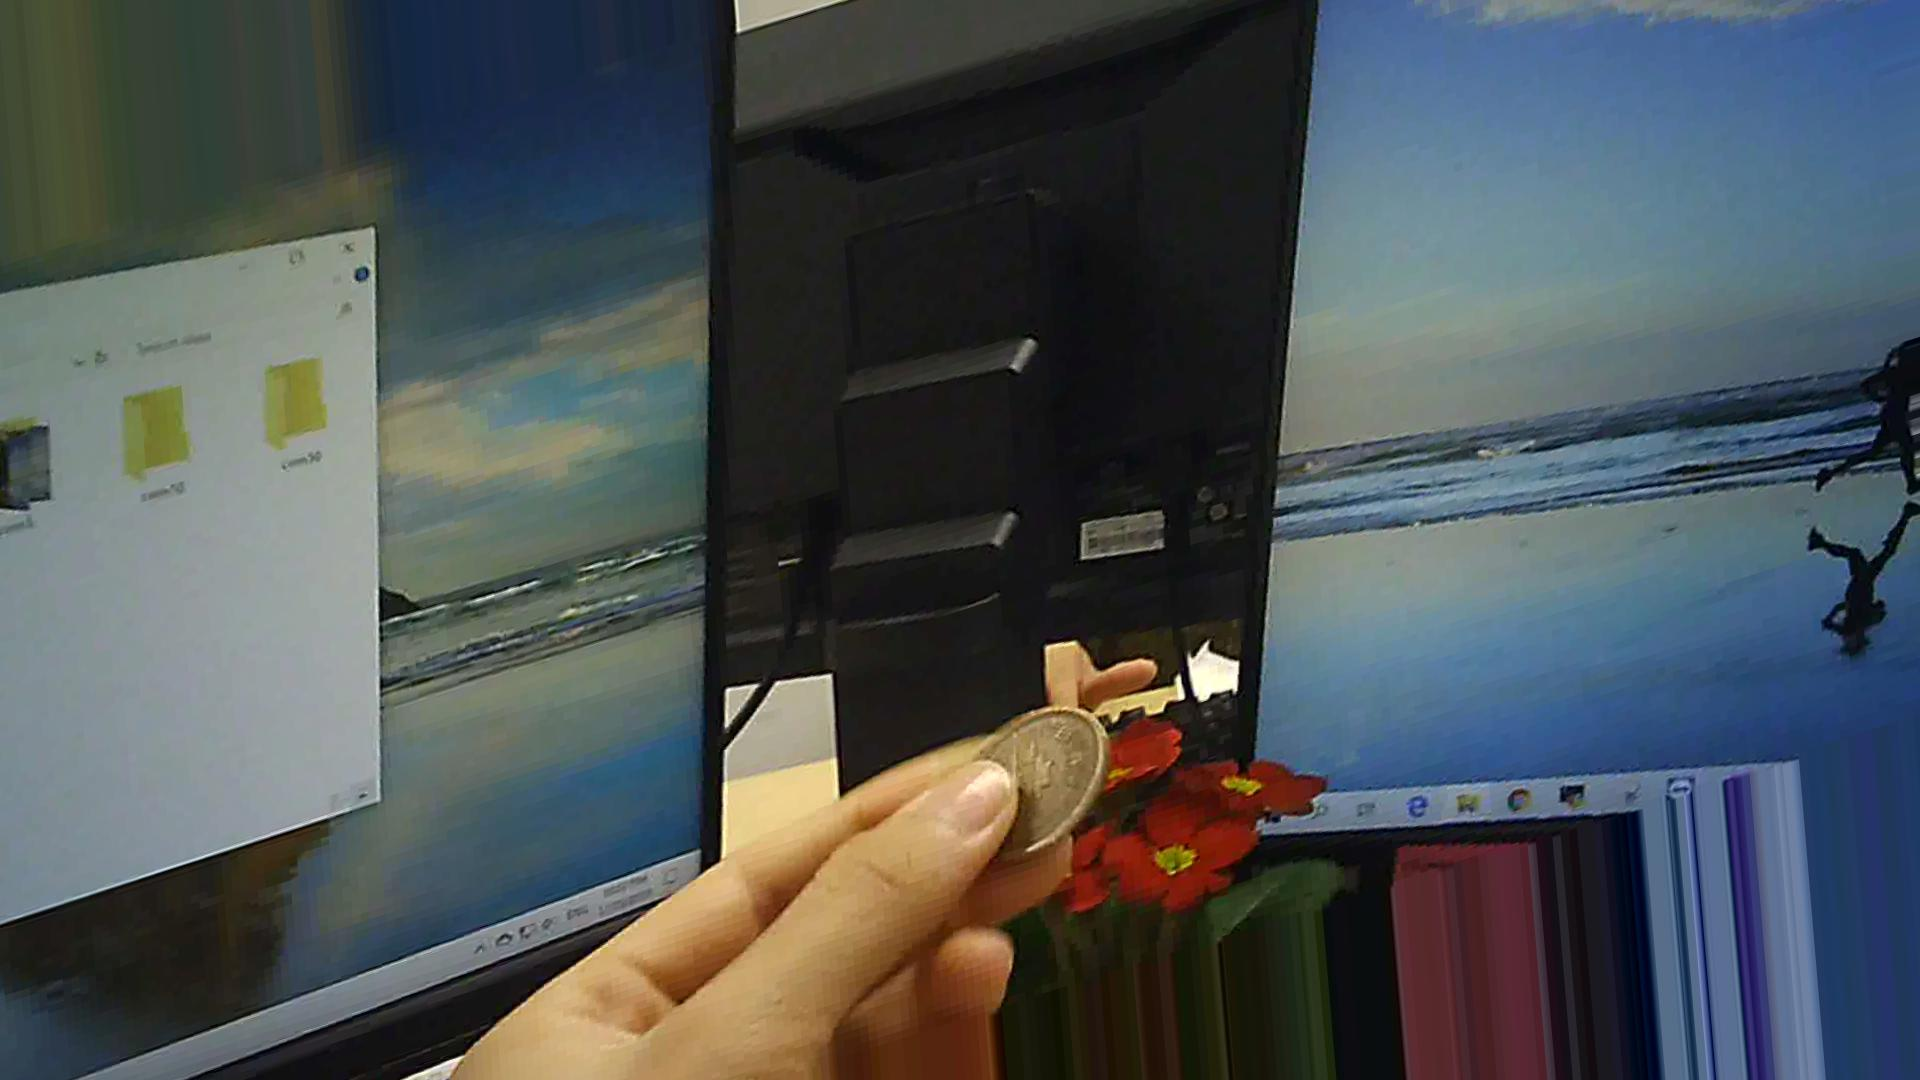10 Yen: (947, 712, 1121, 866)
